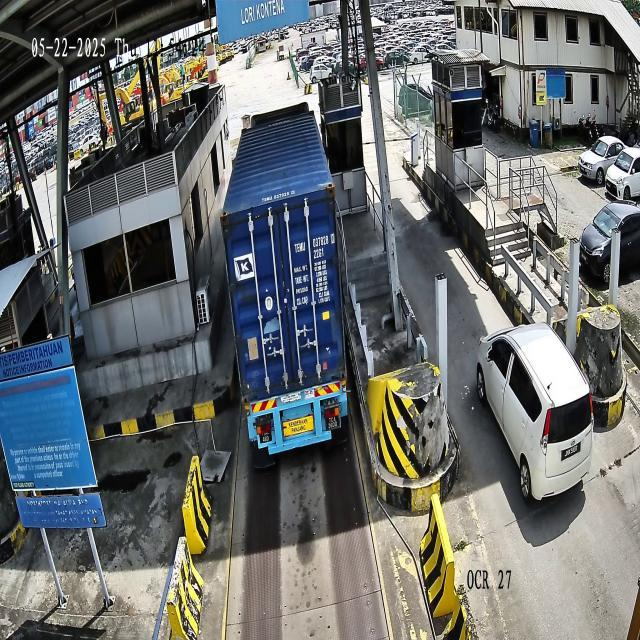ISO: (314, 247, 324, 260)
container_number: (294, 233, 335, 254)
